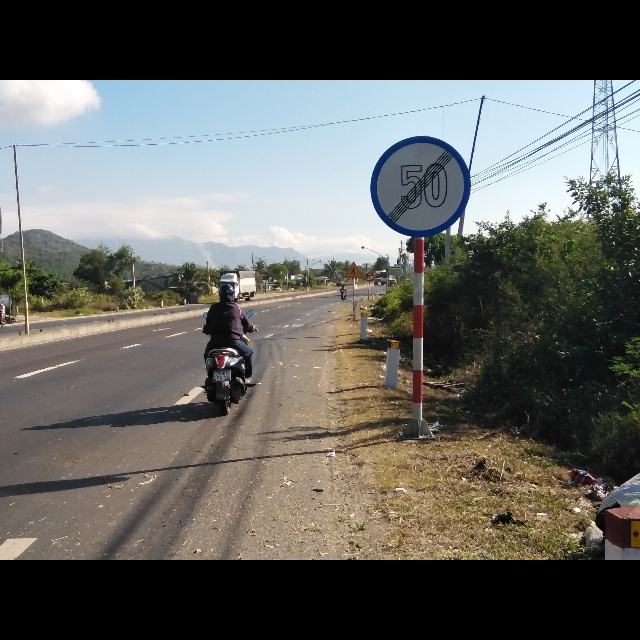Hết hạn chế tốc độ tối đa 50km/h: (369, 133, 472, 238)
